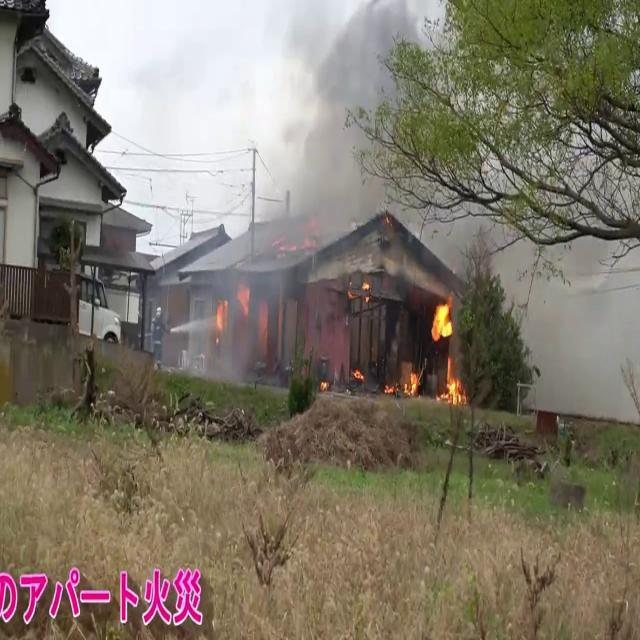Fire: (429, 293, 464, 408), (398, 356, 423, 402)
Smoke: (209, 0, 443, 383)
